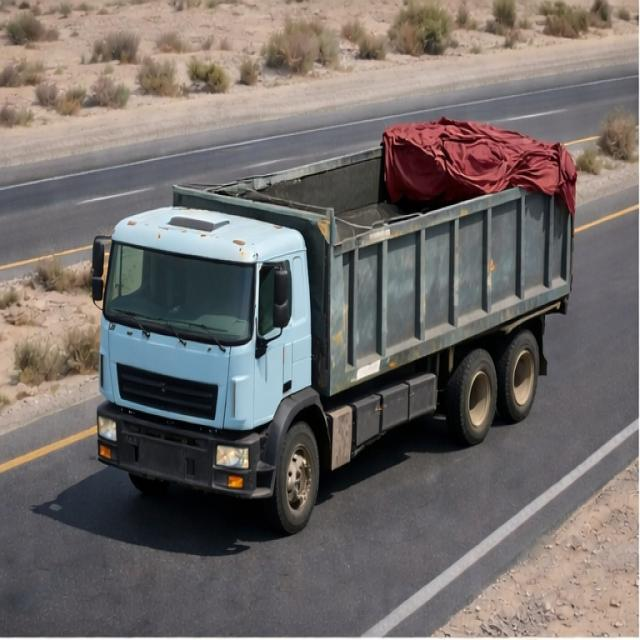trailer: (165, 108, 580, 248)
truck: (82, 101, 593, 520)
